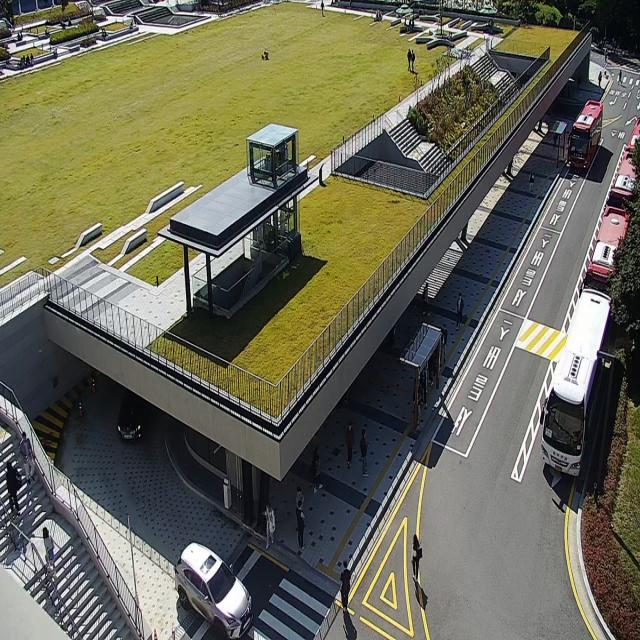queue: (415, 324, 447, 429)
